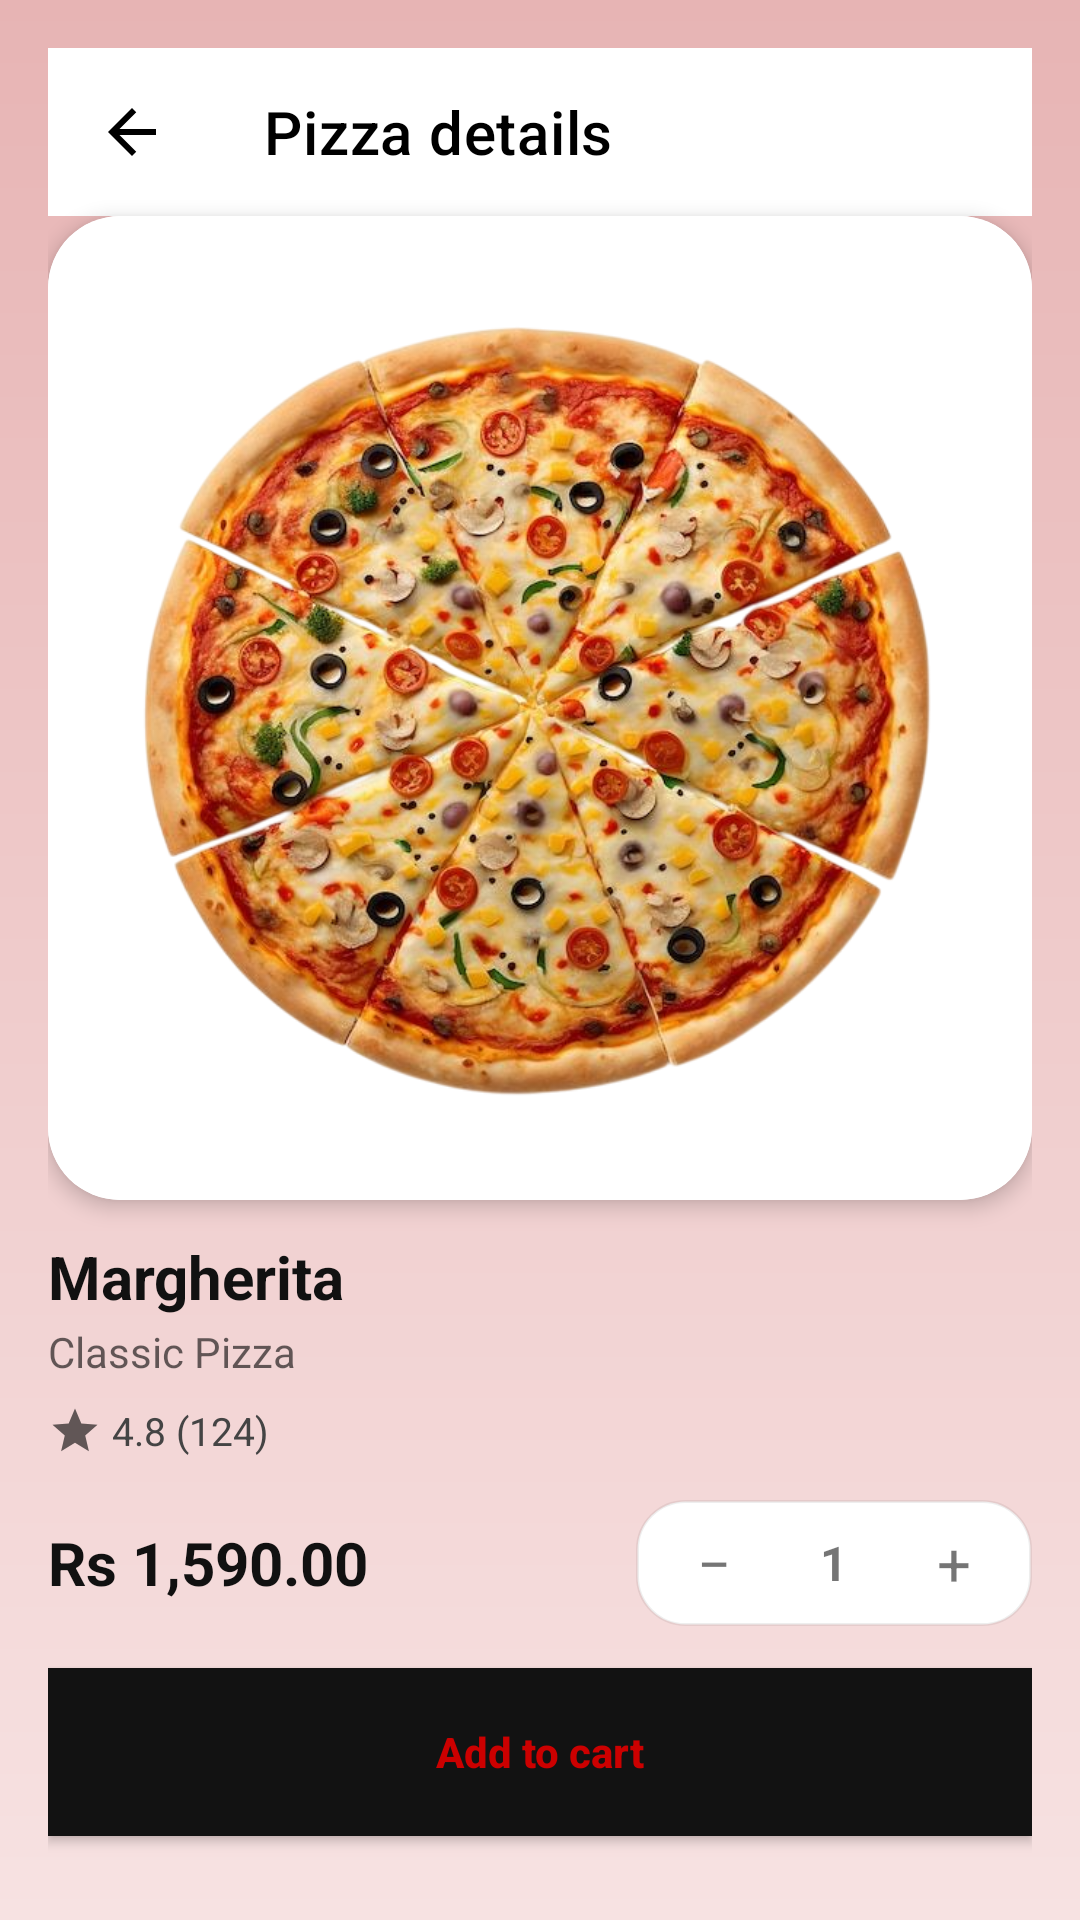

Locate icon controls on the screen. Image size 1080w x 1920h, boxes as (x1, y1, x2, y2).
star: (53, 1409, 97, 1451)
